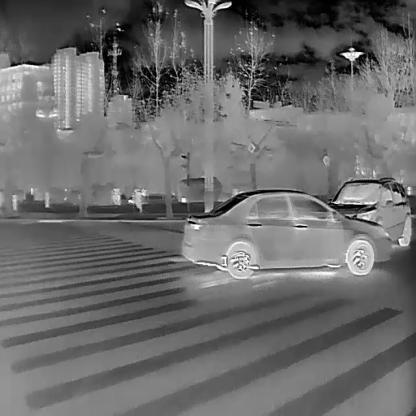car: (180, 187, 393, 279), (327, 175, 412, 246)
